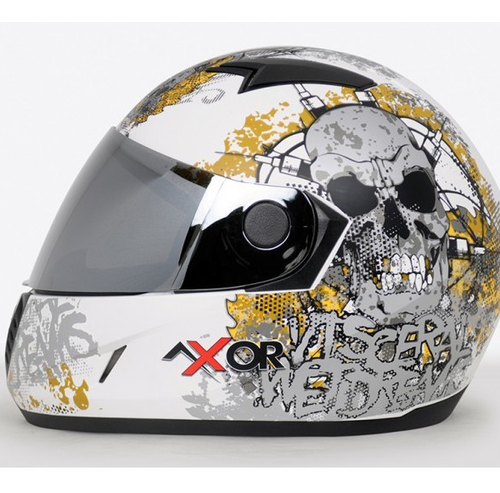with_helmet: (6, 40, 500, 441)
